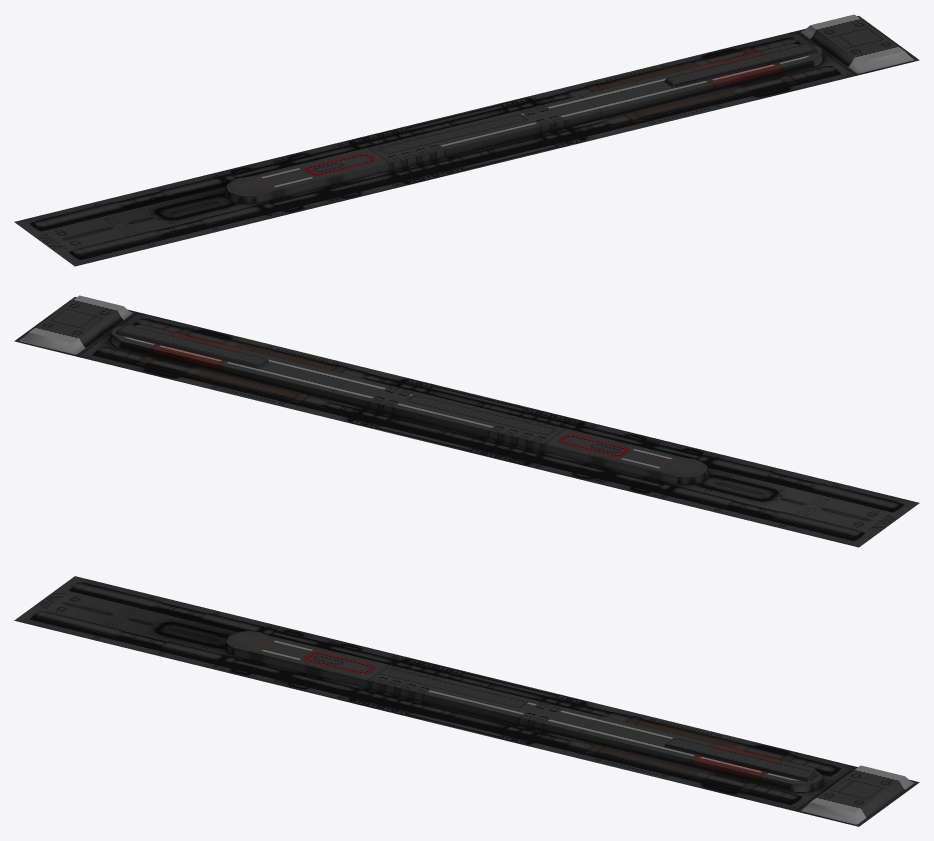
File: Panel_A_4x05_L3.FBX
3 views of the same model, one above another, from view 1: azimuth 30°, elevation 25°; view 2: azimuth 150°, elevation 25°; view 3: azimuth 330°, elevation 25° (orthographic).
Parts seen in each view (by area): view 1: Panel_A_4x05_L3; view 2: Panel_A_4x05_L3; view 3: Panel_A_4x05_L3.
Part boxes in pixels (x1=…): Panel_A_4x05_L3: x1=14, y1=14, x2=919, y2=266; Panel_A_4x05_L3: x1=14, y1=295, x2=919, y2=547; Panel_A_4x05_L3: x1=14, y1=576, x2=919, y2=826.
Bounding box in the file's own units: 400 × 4.64 × 49.97.
